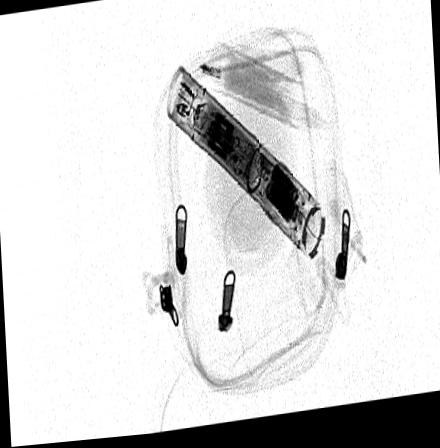Baton: (165, 69, 325, 267)
